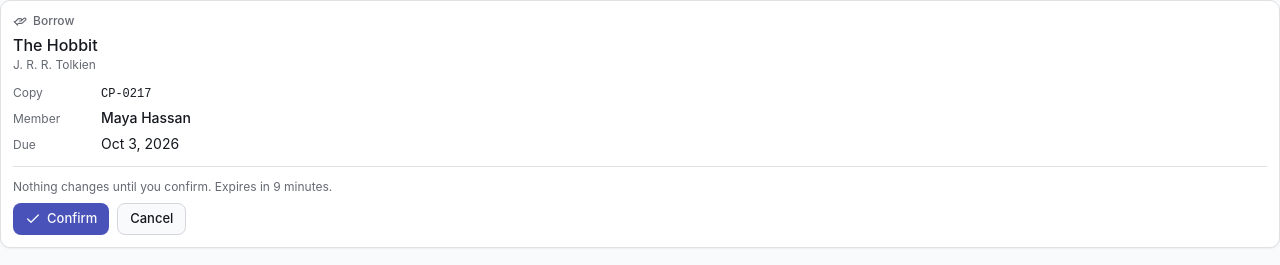
ProposalCard › shows the server's message when the copy was borrowed elsewhere before the confirm
The image size is (1280, 265).
Click the button "Confirm" at (61, 219), box x1=13 y1=203 x2=109 y2=235
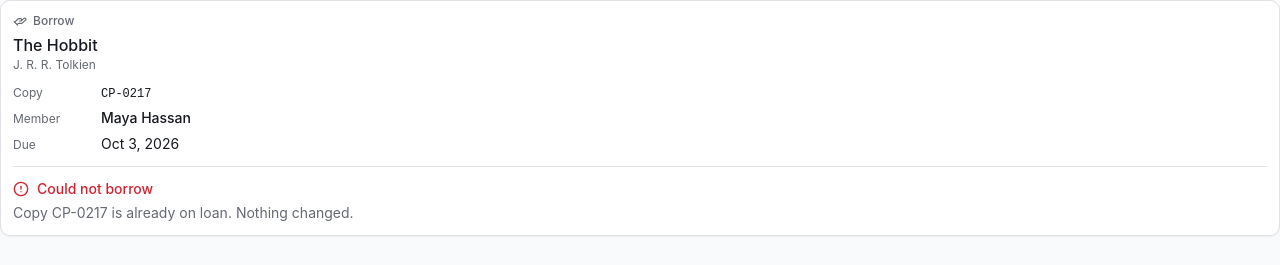
Expected: the message shows "Could not borrow", x1=37 y1=180 x2=153 y2=197
Expected: the message shows "Copy CP-0217 is already on loan. Nothing changed.", x1=13 y1=180 x2=354 y2=221
Expected: the button "Confirm" is gone
